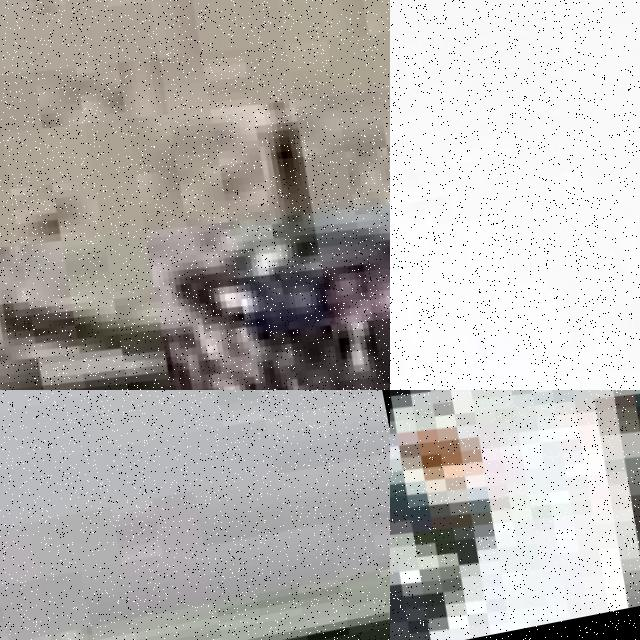drone: (0, 0, 390, 390), (390, 390, 640, 640)
